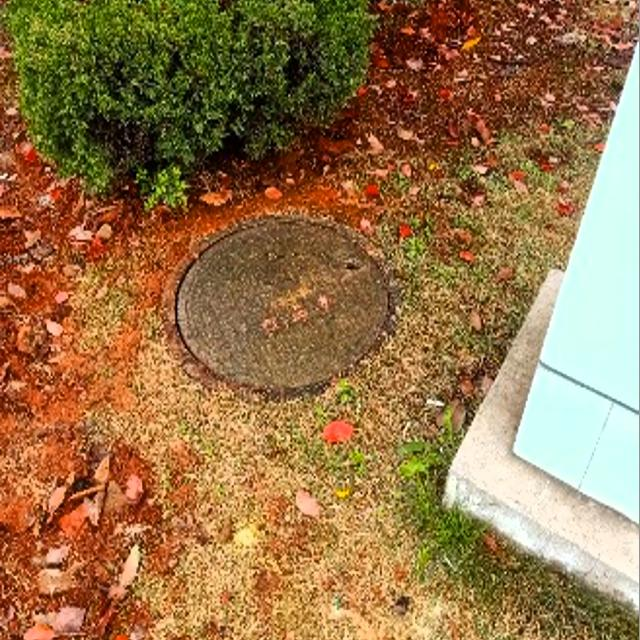good: (165, 214, 393, 401)
